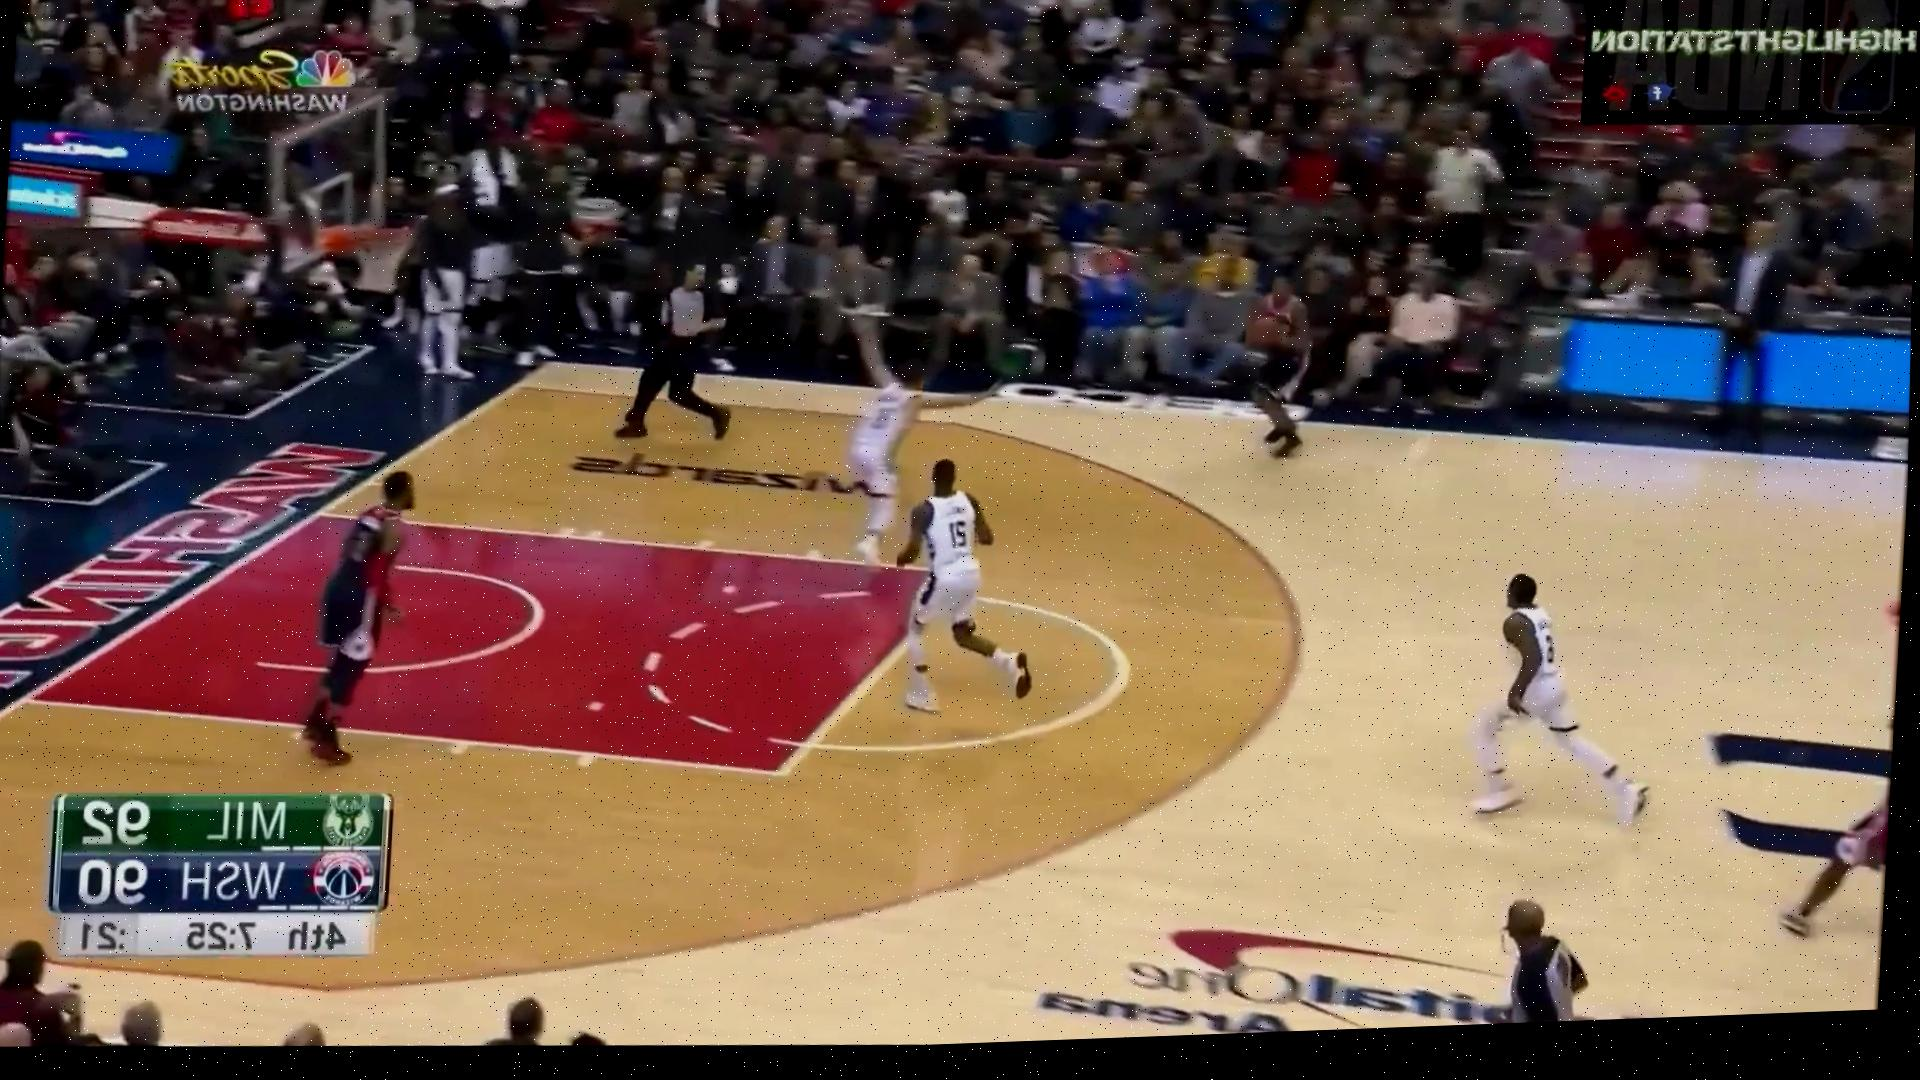no_foul: (822, 240, 1337, 584)
